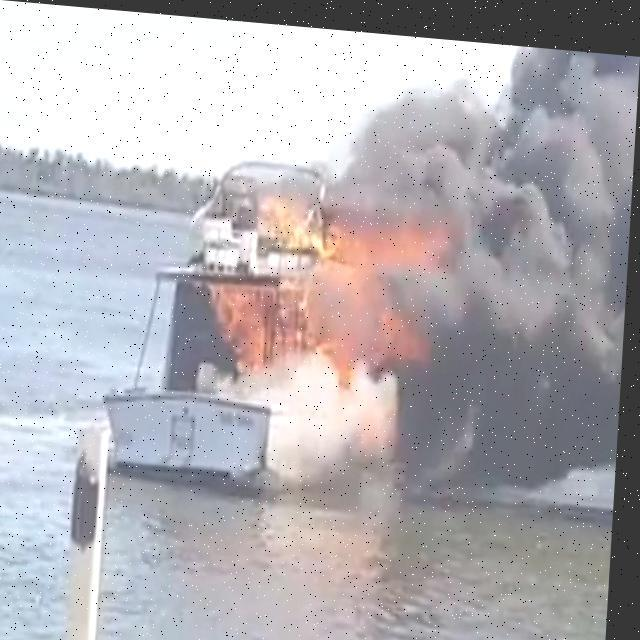Fire: (202, 259, 362, 377), (258, 180, 351, 266)
